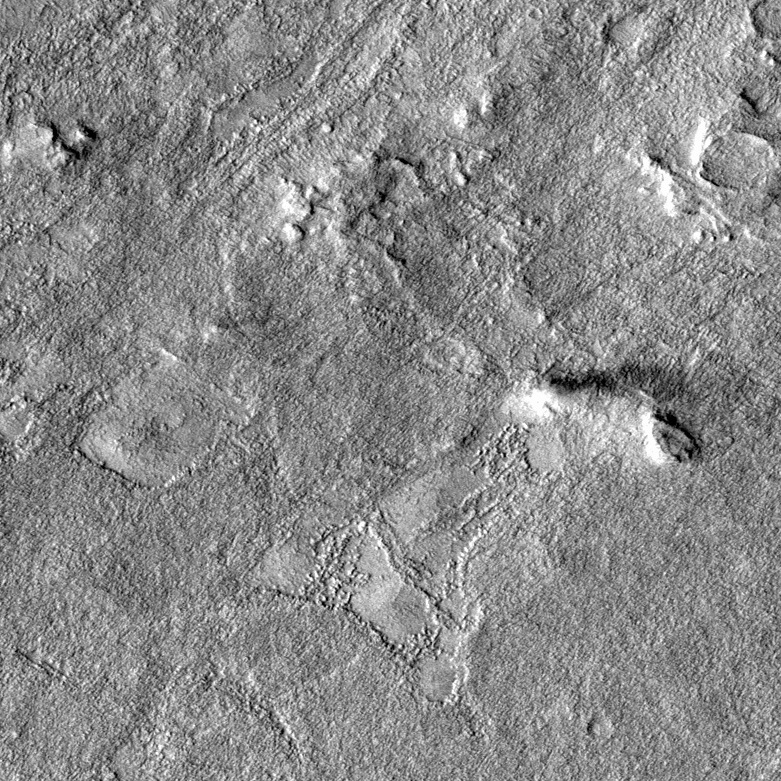dust_devil: (511, 356, 704, 418)
